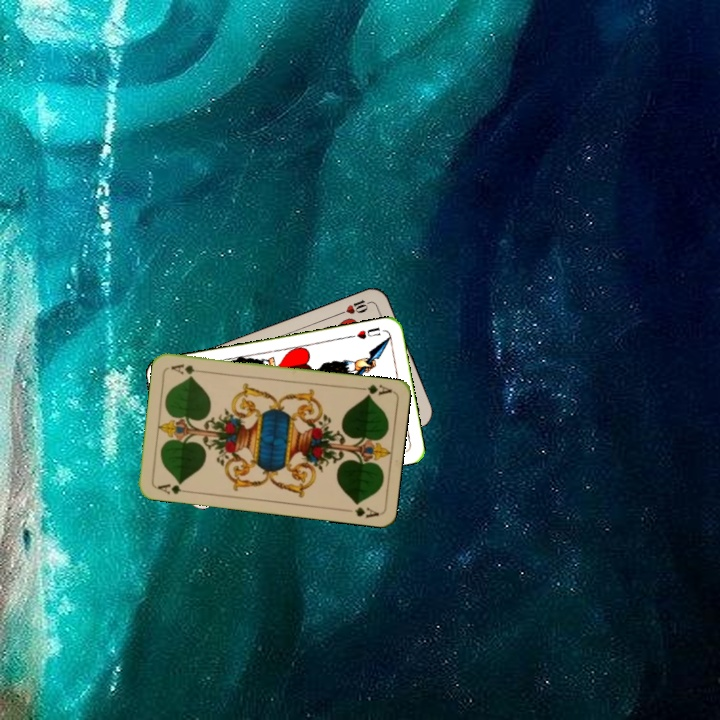GA: (152, 478, 193, 497), (354, 380, 394, 399)
H10: (335, 295, 374, 317)
HU: (346, 323, 383, 341)
